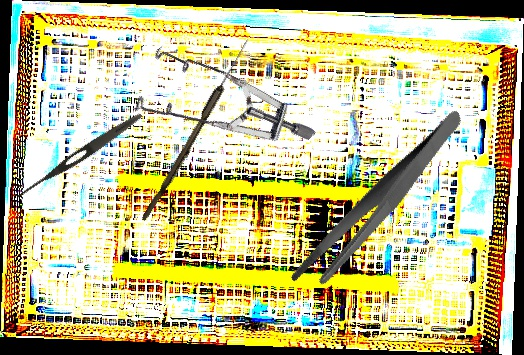Dressing Forceps: (261, 108, 498, 298), (13, 109, 145, 204)
Speculum: (113, 4, 317, 213)
Surgical Spoon: (141, 36, 252, 224)
